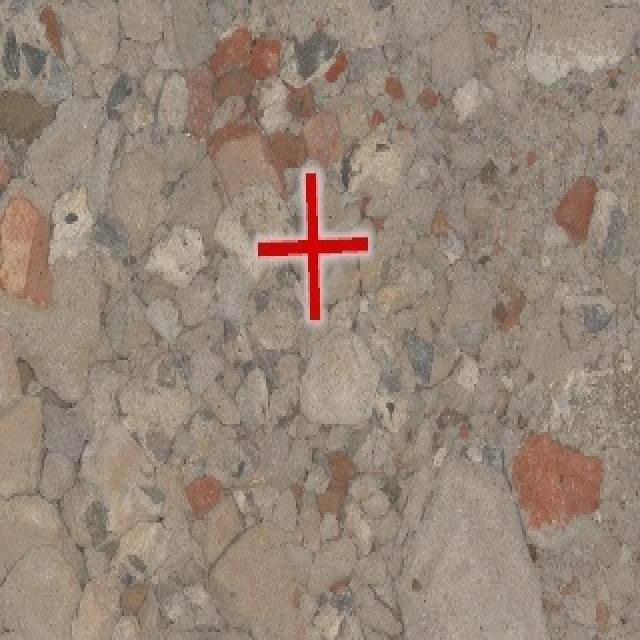x_marker: (255, 172, 367, 319)
